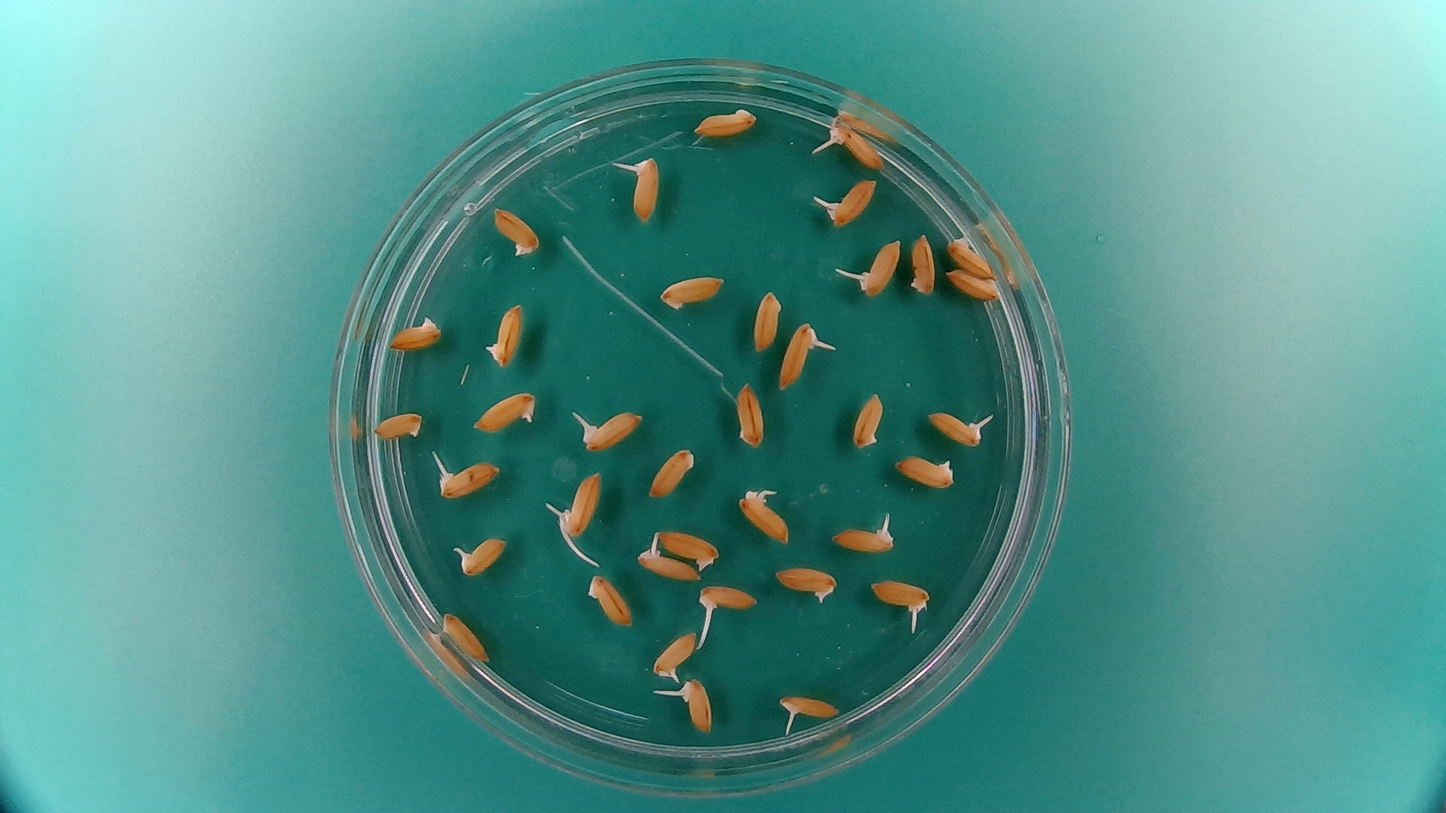no: (656, 269, 728, 311), (438, 610, 492, 666), (584, 571, 636, 629), (646, 444, 698, 501), (654, 528, 721, 571), (490, 203, 542, 257), (892, 452, 958, 492), (691, 102, 761, 139), (733, 379, 767, 449), (849, 388, 886, 452), (942, 263, 1002, 302), (368, 407, 426, 446), (750, 286, 783, 354), (387, 312, 444, 351), (906, 230, 937, 299)
yes: (776, 316, 826, 394), (558, 467, 606, 542), (737, 483, 792, 547), (850, 235, 905, 298), (468, 388, 540, 435), (573, 406, 646, 452), (823, 175, 881, 230), (482, 297, 524, 369), (824, 125, 888, 172), (925, 406, 992, 449), (633, 540, 702, 581), (771, 563, 840, 604), (431, 461, 501, 500), (450, 531, 508, 577), (625, 153, 662, 224), (775, 691, 843, 729), (945, 233, 997, 281), (651, 629, 699, 680), (868, 577, 932, 615), (679, 676, 716, 736), (694, 582, 757, 617), (830, 523, 894, 554)
